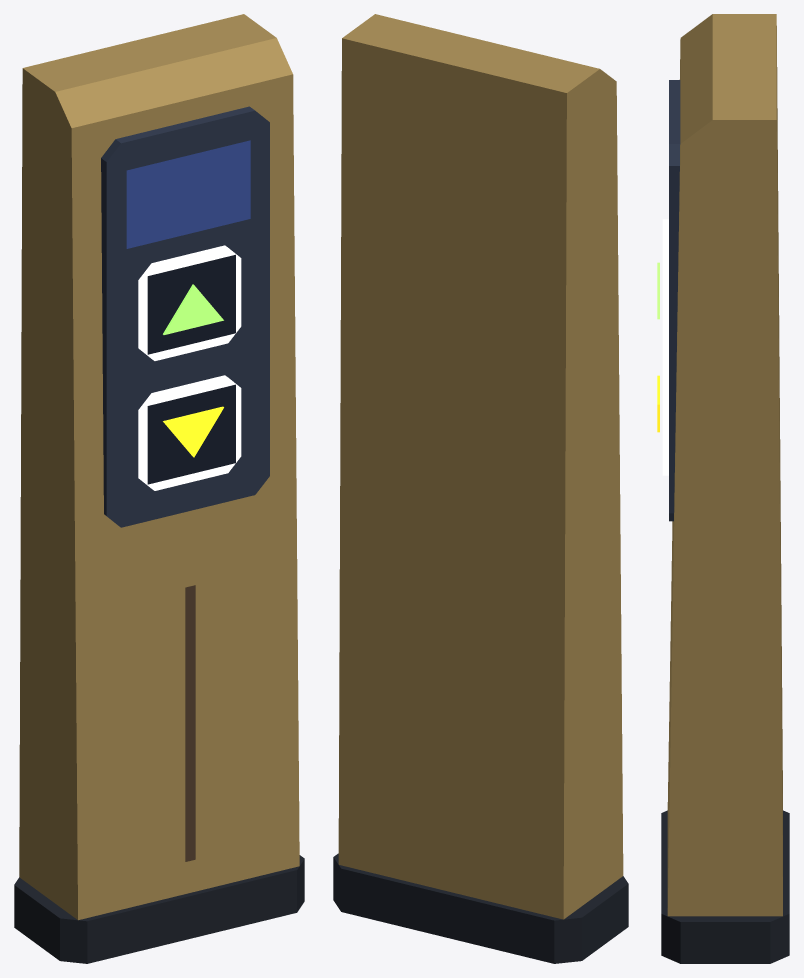
The model's file is res_elevator_call_panel.glb.
The picture shows the model from 3 angles, left to right: view 1: azimuth 30°, elevation 25°; view 2: azimuth 150°, elevation 25°; view 3: azimuth 270°, elevation 25°; orthographic projection. The views are drawn at different scales.
Visible parts, largest first — view 1: inclined_pylon, control_face, foot, button_cap, print, button_rim, vertical_inlay, direction_key.001, direction_key; view 2: inclined_pylon, foot; view 3: inclined_pylon, foot, control_face, button_rim.
Part boxes in pixels (x1=…): inclined_pylon: x1=19, y1=14, x2=299, y2=920; control_face: x1=101, y1=106, x2=269, y2=527; foot: x1=14, y1=855, x2=304, y2=963; button_cap: x1=147, y1=254, x2=235, y2=484; print: x1=126, y1=140, x2=250, y2=248; button_rim: x1=138, y1=245, x2=241, y2=490; vertical_inlay: x1=185, y1=585, x2=195, y2=861; direction_key.001: x1=163, y1=284, x2=223, y2=334; direction_key: x1=163, y1=406, x2=223, y2=457; inclined_pylon: x1=338, y1=14, x2=623, y2=919; foot: x1=333, y1=853, x2=628, y2=963; inclined_pylon: x1=667, y1=14, x2=782, y2=916; foot: x1=661, y1=810, x2=789, y2=963; control_face: x1=669, y1=80, x2=680, y2=521; button_rim: x1=662, y1=219, x2=668, y2=475.
Size of the model in its own units: 0.42 by 1.4 by 0.2.
